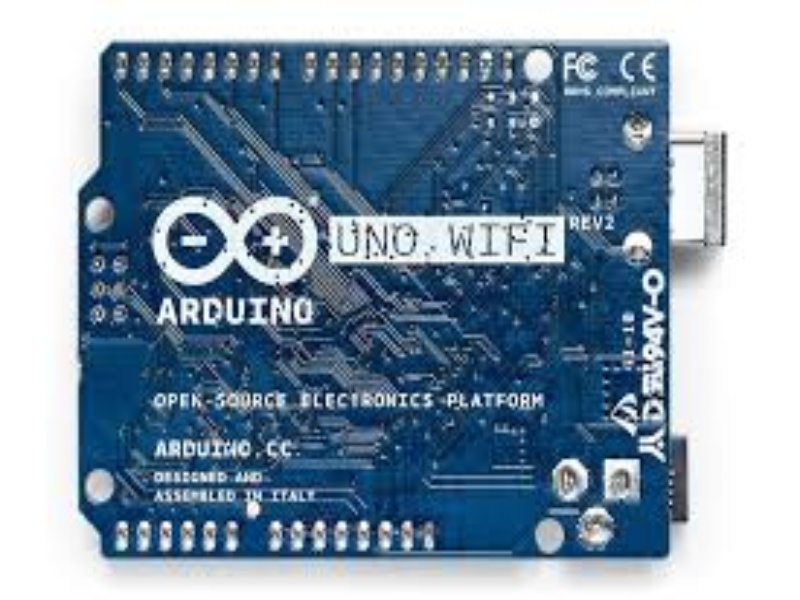uno: (48, 28, 713, 561)
